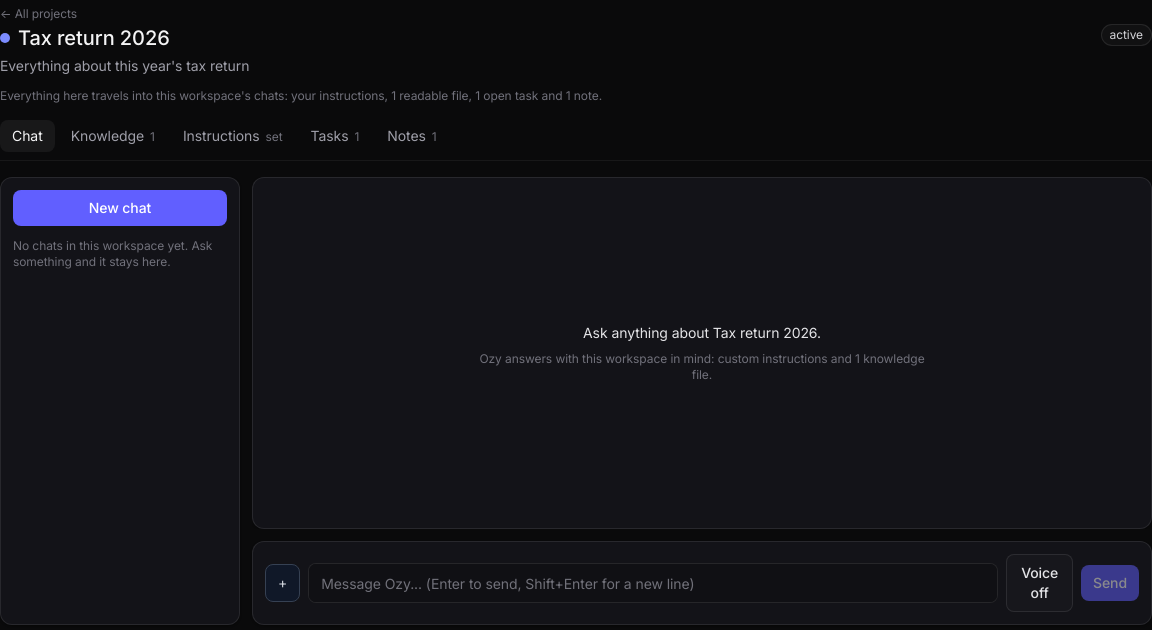
ProjectWorkspacePage › switches to the instructions section
This screenshot has width=1152, height=630.
Click the tab "Instructions".
click(233, 136)  # box [171,120,295,152]
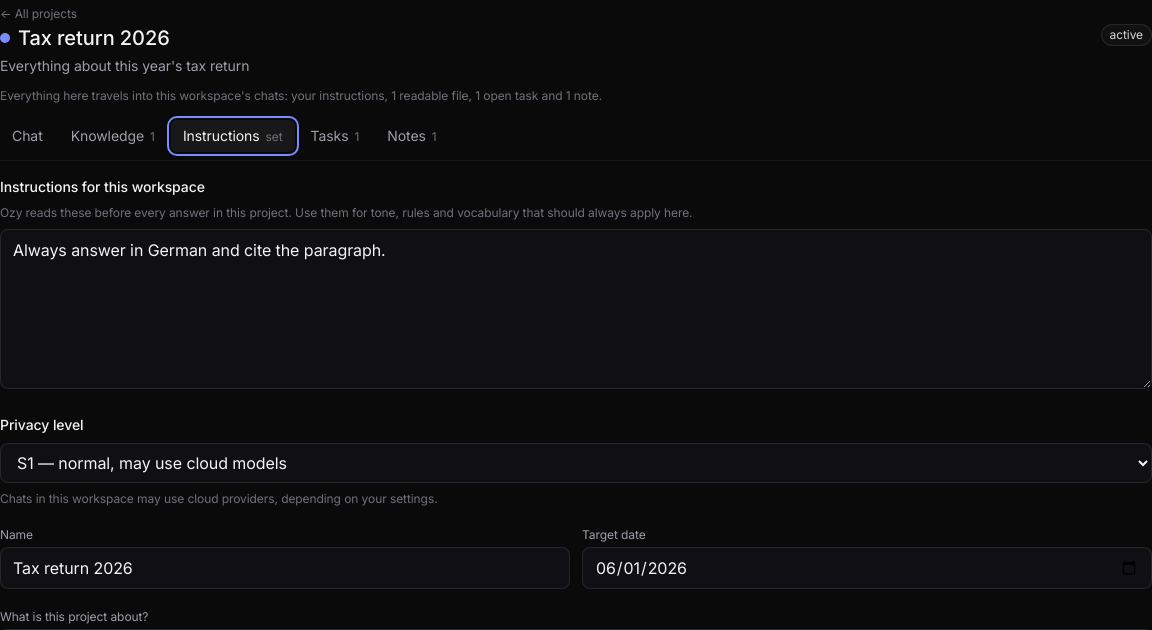
Expected: the text box labelled "Instructions for this workspace" is shown, [0,229,1151,389]
